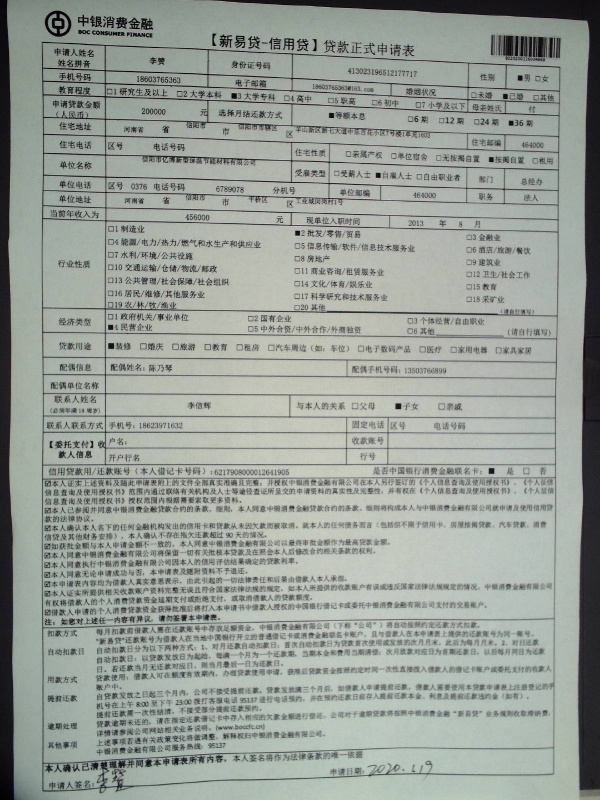text: (97, 766, 112, 795), (113, 766, 128, 795), (225, 31, 240, 58), (241, 31, 256, 58), (257, 31, 272, 58), (273, 31, 288, 58), (289, 31, 304, 58), (305, 31, 320, 58), (321, 31, 336, 58), (337, 31, 352, 58), (353, 31, 368, 58), (369, 31, 384, 58), (385, 31, 400, 58), (401, 31, 416, 58), (113, 85, 128, 112), (129, 85, 144, 112), (145, 85, 160, 112), (161, 85, 176, 112), (177, 85, 192, 112), (193, 85, 208, 112), (209, 85, 224, 112), (225, 85, 240, 112), (241, 85, 256, 112), (257, 85, 272, 112), (273, 85, 288, 112), (289, 85, 304, 112), (305, 85, 320, 112), (321, 85, 336, 112), (337, 85, 352, 112), (353, 85, 368, 112), (369, 85, 384, 112), (385, 85, 400, 112), (401, 85, 416, 112), (417, 85, 432, 112), (433, 85, 448, 112), (449, 85, 464, 112), (49, 749, 64, 775), (65, 749, 80, 775), (81, 749, 96, 775), (97, 749, 112, 775), (113, 749, 128, 775), (129, 749, 144, 775), (145, 749, 160, 775), (161, 749, 176, 775), (177, 749, 192, 775), (193, 749, 208, 775), (209, 749, 224, 775), (225, 749, 240, 775), (241, 749, 256, 775), (257, 749, 272, 775), (273, 749, 288, 775), (289, 749, 304, 775), (305, 749, 320, 775), (321, 749, 336, 775), (337, 749, 352, 775), (353, 749, 368, 775), (211, 31, 224, 58), (97, 707, 112, 730), (113, 707, 128, 730), (129, 707, 144, 730), (145, 707, 160, 730), (161, 707, 176, 730), (177, 707, 192, 730), (193, 707, 208, 730), (209, 707, 224, 730), (225, 707, 240, 730), (241, 707, 256, 730), (257, 707, 272, 730), (273, 707, 288, 730), (289, 707, 304, 730), (305, 707, 320, 730), (321, 707, 336, 730), (337, 707, 352, 730), (353, 707, 368, 730), (369, 707, 384, 730), (385, 707, 400, 730), (401, 707, 416, 730), (417, 707, 432, 730), (433, 707, 448, 730), (449, 707, 464, 730), (465, 707, 480, 730), (481, 707, 496, 730), (497, 707, 512, 730), (513, 707, 528, 730), (529, 707, 544, 730), (97, 681, 112, 703), (113, 681, 128, 703), (129, 681, 144, 703), (145, 681, 160, 703), (161, 681, 176, 703), (177, 681, 192, 703), (193, 681, 208, 703), (209, 681, 224, 703), (225, 681, 240, 703), (241, 681, 256, 703), (257, 681, 272, 703), (273, 681, 288, 703), (289, 681, 304, 703), (305, 681, 320, 703), (321, 681, 336, 703), (337, 681, 352, 703), (353, 681, 368, 703), (369, 681, 384, 703), (385, 681, 400, 703), (401, 681, 416, 703), (417, 681, 432, 703), (433, 681, 448, 703), (449, 681, 464, 703), (465, 681, 480, 703), (481, 681, 496, 703), (497, 681, 512, 703), (513, 681, 528, 703), (529, 681, 544, 703), (97, 690, 112, 711), (113, 690, 128, 711), (129, 690, 144, 711), (145, 690, 160, 711), (161, 690, 176, 711), (177, 690, 192, 711), (193, 690, 208, 711), (209, 690, 224, 711), (225, 690, 240, 711), (241, 690, 256, 711), (257, 690, 272, 711), (273, 690, 288, 711), (289, 690, 304, 711), (305, 690, 320, 711), (321, 690, 336, 711), (337, 690, 352, 711), (353, 690, 368, 711), (369, 690, 384, 711), (385, 690, 400, 711), (401, 690, 416, 711), (417, 690, 432, 711), (433, 690, 448, 711), (449, 690, 464, 711), (465, 690, 480, 711), (481, 690, 496, 711), (497, 690, 512, 711), (513, 690, 528, 711), (369, 759, 384, 780), (385, 759, 400, 780), (401, 759, 416, 780), (417, 759, 432, 780), (81, 12, 96, 32), (97, 12, 112, 32), (113, 12, 128, 32), (129, 12, 144, 32), (353, 147, 368, 167), (369, 147, 384, 167), (385, 147, 400, 167), (401, 147, 416, 167), (417, 147, 432, 167), (433, 147, 448, 167), (449, 147, 464, 167), (465, 147, 480, 167), (481, 147, 496, 167), (497, 147, 512, 167), (513, 147, 528, 167), (529, 147, 544, 167), (97, 645, 112, 665), (113, 645, 128, 665), (129, 645, 144, 665), (145, 645, 160, 665), (161, 645, 176, 665), (177, 645, 192, 665), (193, 645, 208, 665), (209, 645, 224, 665), (225, 645, 240, 665), (241, 645, 256, 665), (257, 645, 272, 665), (273, 645, 288, 665), (289, 645, 304, 665), (305, 645, 320, 665), (321, 645, 336, 665), (337, 645, 352, 665), (353, 645, 368, 665), (369, 645, 384, 665), (385, 645, 400, 665), (401, 645, 416, 665), (417, 645, 432, 665), (433, 645, 448, 665), (449, 645, 464, 665), (465, 645, 480, 665), (481, 645, 496, 665), (497, 645, 512, 665), (513, 645, 528, 665), (529, 645, 544, 665), (97, 729, 112, 749), (113, 729, 128, 749), (129, 729, 144, 749), (145, 729, 160, 749), (161, 729, 176, 749), (177, 729, 192, 749), (193, 729, 208, 749), (209, 729, 224, 749), (225, 729, 240, 749), (241, 729, 256, 749), (257, 729, 272, 749), (273, 729, 288, 749), (289, 729, 304, 749), (305, 729, 320, 749), (545, 681, 558, 703), (49, 581, 64, 600), (65, 581, 80, 600), (81, 581, 96, 600), (97, 581, 112, 600), (113, 581, 128, 600), (129, 581, 144, 600), (145, 581, 160, 600), (161, 581, 176, 600), (177, 581, 192, 600), (193, 581, 208, 600), (209, 581, 224, 600), (225, 581, 240, 600), (241, 581, 256, 600), (257, 581, 272, 600), (273, 581, 288, 600), (289, 581, 304, 600), (305, 581, 320, 600), (321, 581, 336, 600), (337, 581, 352, 600), (353, 581, 368, 600), (369, 581, 384, 600), (385, 581, 400, 600), (401, 581, 416, 600), (417, 581, 432, 600), (433, 581, 448, 600), (449, 581, 464, 600), (465, 581, 480, 600), (481, 581, 496, 600), (497, 581, 512, 600), (513, 581, 528, 600), (529, 581, 544, 600), (97, 664, 112, 683), (113, 664, 128, 683), (129, 664, 144, 683), (145, 664, 160, 683), (161, 664, 176, 683), (177, 664, 192, 683), (193, 664, 208, 683), (209, 664, 224, 683), (225, 664, 240, 683), (241, 664, 256, 683), (257, 664, 272, 683), (273, 664, 288, 683), (289, 664, 304, 683), (305, 664, 320, 683), (321, 664, 336, 683), (337, 664, 352, 683), (353, 664, 368, 683), (369, 664, 384, 683), (385, 664, 400, 683), (401, 664, 416, 683), (417, 664, 432, 683), (433, 664, 448, 683), (449, 664, 464, 683), (465, 664, 480, 683), (481, 664, 496, 683), (497, 664, 512, 683), (513, 664, 528, 683), (529, 664, 544, 683), (49, 600, 64, 618), (65, 600, 80, 618), (81, 600, 96, 618), (97, 600, 112, 618), (113, 600, 128, 618), (129, 600, 144, 618), (145, 600, 160, 618), (161, 600, 176, 618), (177, 600, 192, 618), (193, 600, 208, 618), (209, 600, 224, 618), (225, 600, 240, 618), (241, 600, 256, 618), (257, 600, 272, 618), (273, 600, 288, 618), (289, 600, 304, 618), (305, 600, 320, 618), (321, 600, 336, 618), (337, 600, 352, 618), (353, 600, 368, 618), (369, 600, 384, 618), (385, 600, 400, 618), (401, 600, 416, 618), (417, 600, 432, 618), (433, 600, 448, 618), (449, 600, 464, 618), (465, 600, 480, 618), (97, 638, 112, 656), (113, 638, 128, 656), (129, 638, 144, 656), (145, 638, 160, 656), (161, 638, 176, 656), (177, 638, 192, 656), (193, 638, 208, 656), (209, 638, 224, 656), (225, 638, 240, 656), (241, 638, 256, 656), (257, 638, 272, 656), (273, 638, 288, 656), (289, 638, 304, 656), (305, 638, 320, 656), (321, 638, 336, 656), (337, 638, 352, 656), (353, 638, 368, 656), (369, 638, 384, 656), (385, 638, 400, 656), (401, 638, 416, 656), (417, 638, 432, 656), (433, 638, 448, 656), (449, 638, 464, 656), (465, 638, 480, 656), (481, 638, 496, 656), (497, 638, 512, 656), (513, 638, 528, 656), (545, 147, 558, 167), (417, 112, 432, 129), (433, 112, 448, 129), (449, 112, 464, 129), (465, 112, 480, 129), (481, 112, 496, 129), (497, 112, 512, 129), (513, 112, 528, 129), (305, 239, 320, 256), (321, 239, 336, 256), (337, 239, 352, 256), (353, 239, 368, 256), (369, 239, 384, 256), (385, 239, 400, 256), (401, 239, 416, 256), (49, 612, 64, 629), (65, 612, 80, 629), (81, 612, 96, 629), (97, 612, 112, 629), (113, 612, 128, 629), (129, 612, 144, 629), (145, 612, 160, 629), (161, 612, 176, 629), (177, 612, 192, 629), (193, 612, 208, 629), (209, 612, 224, 629), (97, 620, 112, 637), (113, 620, 128, 637), (129, 620, 144, 637), (145, 620, 160, 637), (161, 620, 176, 637), (177, 620, 192, 637), (193, 620, 208, 637), (209, 620, 224, 637), (225, 620, 240, 637), (241, 620, 256, 637), (257, 620, 272, 637), (273, 620, 288, 637), (289, 620, 304, 637), (305, 620, 320, 637), (321, 620, 336, 637), (337, 620, 352, 637), (353, 620, 368, 637), (369, 620, 384, 637), (385, 620, 400, 637), (401, 620, 416, 637), (417, 620, 432, 637), (433, 620, 448, 637), (449, 620, 464, 637), (465, 620, 480, 637), (97, 630, 112, 647), (113, 630, 128, 647), (129, 630, 144, 647), (145, 630, 160, 647), (161, 630, 176, 647), (177, 630, 192, 647), (193, 630, 208, 647), (209, 630, 224, 647), (225, 630, 240, 647), (241, 630, 256, 647), (257, 630, 272, 647), (273, 630, 288, 647), (289, 630, 304, 647), (305, 630, 320, 647), (321, 630, 336, 647), (337, 630, 352, 647), (353, 630, 368, 647), (369, 630, 384, 647), (385, 630, 400, 647), (401, 630, 416, 647), (417, 630, 432, 647), (433, 630, 448, 647), (449, 630, 464, 647), (465, 630, 480, 647), (481, 630, 496, 647), (497, 630, 512, 647), (513, 630, 528, 647), (97, 741, 112, 758), (113, 741, 128, 758), (129, 741, 144, 758), (145, 741, 160, 758), (161, 741, 176, 758), (177, 741, 192, 758), (193, 741, 208, 758), (209, 741, 224, 758), (481, 89, 496, 105), (497, 89, 512, 105), (513, 89, 528, 105), (529, 89, 544, 105), (305, 264, 320, 280), (321, 264, 336, 280), (337, 264, 352, 280), (353, 264, 368, 280), (369, 264, 384, 280), (113, 341, 128, 357), (129, 341, 144, 357), (145, 341, 160, 357), (161, 341, 176, 357), (177, 341, 192, 357), (193, 341, 208, 357), (209, 341, 224, 357), (225, 341, 240, 357), (241, 341, 256, 357), (257, 341, 272, 357), (273, 341, 288, 357), (289, 341, 304, 357), (305, 341, 320, 357), (321, 341, 336, 357), (337, 341, 352, 357), (353, 341, 368, 357), (369, 341, 384, 357), (385, 341, 400, 357), (401, 341, 416, 357), (417, 341, 432, 357), (433, 341, 448, 357), (449, 341, 464, 357), (465, 341, 480, 357), (481, 341, 496, 357), (497, 341, 512, 357), (513, 341, 528, 357), (49, 574, 64, 590), (65, 574, 80, 590), (81, 574, 96, 590), (97, 574, 112, 590), (113, 574, 128, 590), (129, 574, 144, 590), (145, 574, 160, 590), (161, 574, 176, 590), (177, 574, 192, 590), (193, 574, 208, 590), (209, 574, 224, 590), (225, 574, 240, 590), (241, 574, 256, 590), (257, 574, 272, 590), (273, 574, 288, 590), (289, 574, 304, 590), (305, 574, 320, 590), (321, 574, 336, 590), (97, 659, 112, 675), (113, 659, 128, 675), (129, 659, 144, 675), (145, 659, 160, 675), (161, 659, 176, 675), (177, 659, 192, 675), (193, 659, 208, 675), (209, 659, 224, 675), (225, 659, 240, 675), (241, 659, 256, 675), (257, 659, 272, 675), (97, 704, 112, 720), (113, 704, 128, 720), (129, 704, 144, 720), (145, 704, 160, 720), (161, 704, 176, 720), (177, 704, 192, 720), (193, 704, 208, 720), (209, 704, 224, 720), (225, 704, 240, 720), (241, 704, 256, 720), (97, 723, 112, 739), (113, 723, 128, 739), (129, 723, 144, 739), (145, 723, 160, 739), (161, 723, 176, 739), (177, 723, 192, 739), (193, 723, 208, 739), (209, 723, 224, 739), (225, 723, 240, 739), (241, 723, 256, 739), (257, 723, 272, 739), (529, 638, 542, 656), (241, 58, 256, 73), (257, 58, 272, 73), (353, 65, 368, 80), (369, 65, 384, 80), (385, 65, 400, 80), (401, 65, 416, 80), (305, 125, 320, 140), (321, 125, 336, 140), (337, 125, 352, 140), (353, 125, 368, 140), (369, 125, 384, 140), (385, 125, 400, 140), (401, 125, 416, 140), (417, 125, 432, 140), (145, 154, 160, 169), (161, 154, 176, 169), (177, 154, 192, 169), (193, 154, 208, 169), (209, 154, 224, 169), (225, 154, 240, 169), (241, 154, 256, 169), (337, 169, 352, 184), (353, 169, 368, 184), (369, 169, 384, 184), (385, 169, 400, 184), (401, 169, 416, 184), (417, 169, 432, 184), (433, 169, 448, 184), (449, 169, 464, 184), (113, 249, 128, 264), (129, 249, 144, 264), (145, 249, 160, 264), (161, 249, 176, 264), (177, 249, 192, 264), (49, 537, 64, 552), (65, 537, 80, 552), (81, 537, 96, 552), (97, 537, 112, 552), (113, 537, 128, 552), (129, 537, 144, 552), (145, 537, 160, 552), (161, 537, 176, 552), (177, 537, 192, 552), (193, 537, 208, 552), (209, 537, 224, 552), (225, 537, 240, 552), (241, 537, 256, 552), (257, 537, 272, 552), (273, 537, 288, 552), (289, 537, 304, 552), (305, 537, 320, 552), (321, 537, 336, 552), (337, 537, 352, 552), (353, 537, 368, 552), (369, 537, 384, 552), (49, 547, 64, 562), (65, 547, 80, 562), (81, 547, 96, 562), (97, 547, 112, 562), (113, 547, 128, 562), (129, 547, 144, 562), (145, 547, 160, 562), (161, 547, 176, 562), (177, 547, 192, 562), (193, 547, 208, 562), (209, 547, 224, 562), (225, 547, 240, 562), (241, 547, 256, 562), (257, 547, 272, 562), (273, 547, 288, 562), (289, 547, 304, 562), (305, 547, 320, 562), (321, 547, 336, 562), (337, 547, 352, 562), (353, 547, 368, 562), (49, 556, 64, 571), (65, 556, 80, 571), (81, 556, 96, 571), (97, 556, 112, 571), (113, 556, 128, 571), (129, 556, 144, 571), (145, 556, 160, 571), (161, 556, 176, 571), (177, 556, 192, 571), (193, 556, 208, 571), (209, 556, 224, 571), (225, 556, 240, 571), (241, 556, 256, 571), (257, 556, 272, 571), (273, 556, 288, 571), (49, 566, 64, 581), (65, 566, 80, 581), (81, 566, 96, 581), (97, 566, 112, 581), (113, 566, 128, 581), (129, 566, 144, 581), (145, 566, 160, 581), (161, 566, 176, 581), (177, 566, 192, 581), (193, 566, 208, 581), (209, 566, 224, 581), (225, 566, 240, 581), (49, 593, 64, 608), (65, 593, 80, 608), (81, 593, 96, 608), (97, 593, 112, 608), (113, 593, 128, 608), (129, 593, 144, 608), (145, 593, 160, 608), (161, 593, 176, 608), (177, 593, 192, 608), (193, 593, 208, 608), (209, 593, 224, 608), (225, 593, 240, 608), (241, 593, 256, 608), (257, 593, 272, 608), (273, 593, 288, 608), (289, 593, 304, 608), (49, 778, 64, 793), (65, 778, 80, 793), (81, 778, 96, 793), (337, 765, 352, 780), (81, 46, 97, 60), (81, 178, 97, 192), (337, 574, 351, 590), (273, 659, 287, 675), (145, 12, 156, 32), (65, 46, 80, 60), (321, 81, 336, 95), (337, 81, 352, 95), (353, 81, 368, 95), (225, 107, 240, 121), (241, 107, 256, 121), (257, 107, 272, 121), (65, 120, 80, 134), (161, 141, 176, 155), (65, 178, 80, 192), (113, 180, 128, 194), (129, 180, 144, 194), (145, 180, 160, 194), (161, 180, 176, 194), (305, 214, 320, 228), (321, 214, 336, 228), (337, 214, 352, 228), (113, 261, 128, 275), (129, 261, 144, 275), (145, 261, 160, 275), (161, 261, 176, 275), (177, 261, 192, 275), (193, 261, 208, 275), (113, 287, 128, 301), (129, 287, 144, 301), (145, 287, 160, 301), (161, 287, 176, 301), (177, 287, 192, 301), (193, 287, 208, 301), (113, 298, 128, 312), (129, 298, 144, 312), (145, 298, 160, 312), (161, 298, 176, 312), (305, 227, 320, 241), (321, 227, 336, 241), (337, 227, 352, 241), (305, 290, 320, 304), (321, 290, 336, 304), (337, 290, 352, 304), (353, 290, 368, 304), (369, 290, 384, 304), (465, 268, 480, 282), (481, 268, 496, 282), (497, 268, 512, 282), (513, 268, 528, 282), (65, 257, 80, 271), (305, 400, 320, 414), (321, 400, 336, 414), (337, 400, 352, 414), (353, 400, 368, 414), (369, 400, 384, 414), (385, 400, 400, 414), (401, 400, 416, 414), (417, 400, 432, 414), (433, 400, 448, 414), (449, 400, 464, 414), (385, 464, 400, 478), (401, 464, 416, 478), (417, 464, 432, 478), (433, 464, 448, 478), (449, 464, 464, 478), (465, 464, 480, 478), (481, 464, 496, 478), (497, 464, 512, 478), (513, 464, 528, 478), (529, 464, 544, 478), (49, 519, 64, 533), (65, 519, 80, 533), (81, 519, 96, 533), (97, 519, 112, 533), (113, 519, 128, 533), (129, 519, 144, 533), (145, 519, 160, 533), (161, 519, 176, 533), (177, 519, 192, 533), (193, 519, 208, 533), (209, 519, 224, 533), (225, 519, 240, 533), (241, 519, 256, 533), (257, 519, 272, 533), (273, 519, 288, 533), (289, 519, 304, 533), (305, 519, 320, 533), (321, 519, 336, 533), (337, 519, 352, 533), (353, 519, 368, 533), (369, 519, 384, 533), (385, 519, 400, 533), (401, 519, 416, 533), (417, 519, 432, 533), (433, 519, 448, 533), (449, 519, 464, 533), (465, 519, 480, 533), (481, 519, 496, 533), (497, 519, 512, 533), (513, 519, 528, 533), (529, 519, 544, 533), (289, 556, 303, 571), (353, 765, 367, 780), (545, 581, 556, 600), (545, 89, 558, 105), (291, 264, 304, 280), (292, 239, 304, 256), (81, 120, 95, 134), (177, 180, 191, 194), (290, 290, 304, 304), (81, 257, 95, 271), (81, 28, 96, 41), (97, 28, 112, 41), (113, 28, 128, 41), (129, 28, 144, 41), (529, 72, 544, 85), (65, 70, 80, 83), (241, 76, 256, 89), (65, 99, 80, 112), (81, 99, 96, 112), (65, 109, 80, 122), (65, 139, 80, 152), (81, 139, 96, 152), (305, 147, 320, 160), (65, 159, 80, 172), (49, 208, 64, 221), (65, 208, 80, 221), (81, 208, 96, 221), (273, 214, 288, 227), (417, 218, 432, 231), (433, 218, 448, 231), (449, 218, 464, 231), (465, 218, 480, 231), (113, 237, 128, 250), (129, 237, 144, 250), (145, 237, 160, 250), (161, 237, 176, 250), (177, 237, 192, 250), (193, 237, 208, 250), (209, 237, 224, 250), (225, 237, 240, 250), (241, 237, 256, 250), (113, 275, 128, 288), (129, 275, 144, 288), (145, 275, 160, 288), (161, 275, 176, 288), (177, 275, 192, 288), (193, 275, 208, 288), (209, 275, 224, 288), (305, 278, 320, 291), (321, 278, 336, 291), (337, 278, 352, 291), (353, 278, 368, 291), (465, 231, 480, 244), (481, 231, 496, 244), (465, 244, 480, 257), (481, 244, 496, 257), (497, 244, 512, 257), (513, 244, 528, 257), (465, 256, 480, 269), (481, 256, 496, 269), (465, 293, 480, 306), (481, 293, 496, 306), (513, 306, 528, 319), (65, 315, 80, 328), (81, 315, 96, 328), (417, 325, 432, 338), (513, 326, 528, 339), (529, 326, 544, 339), (113, 362, 128, 375), (129, 362, 144, 375), (145, 362, 160, 375), (161, 362, 176, 375), (353, 364, 368, 377), (369, 364, 384, 377), (385, 364, 400, 377), (401, 364, 416, 377), (417, 364, 432, 377), (433, 364, 448, 377), (49, 466, 64, 479), (65, 466, 80, 479), (81, 466, 96, 479), (97, 466, 112, 479), (113, 466, 128, 479), (129, 466, 144, 479), (145, 466, 160, 479), (161, 466, 176, 479), (177, 466, 192, 479), (193, 466, 208, 479), (209, 466, 224, 479), (225, 466, 240, 479), (241, 466, 256, 479), (257, 466, 272, 479), (273, 466, 288, 479), (49, 503, 64, 516), (65, 503, 80, 516), (81, 503, 96, 516), (97, 503, 112, 516), (113, 503, 128, 516), (129, 503, 144, 516), (145, 503, 160, 516), (161, 503, 176, 516), (177, 503, 192, 516), (193, 503, 208, 516), (209, 503, 224, 516), (225, 503, 240, 516), (241, 503, 256, 516), (257, 503, 272, 516), (273, 503, 288, 516), (289, 503, 304, 516), (305, 503, 320, 516), (321, 503, 336, 516), (337, 503, 352, 516), (353, 503, 368, 516), (369, 503, 384, 516), (385, 503, 400, 516), (401, 503, 416, 516), (417, 503, 432, 516), (433, 503, 448, 516), (449, 503, 464, 516), (465, 503, 480, 516), (481, 503, 496, 516), (497, 503, 512, 516), (513, 503, 528, 516), (529, 503, 544, 516), (49, 531, 64, 544), (65, 531, 80, 544), (81, 531, 96, 544), (97, 531, 112, 544), (113, 531, 128, 544), (129, 531, 144, 544), (145, 531, 160, 544), (161, 531, 176, 544), (177, 531, 192, 544), (193, 531, 208, 544), (209, 531, 224, 544), (225, 531, 240, 544), (241, 531, 256, 544), (369, 547, 382, 562), (49, 646, 64, 659), (65, 646, 80, 659), (49, 739, 64, 752), (65, 739, 80, 752), (193, 119, 209, 131), (81, 362, 97, 374), (545, 707, 553, 730), (273, 107, 286, 121), (81, 159, 95, 172), (209, 261, 222, 275), (353, 227, 366, 241), (371, 464, 384, 478), (257, 531, 271, 544), (65, 57, 80, 69), (481, 71, 496, 83), (145, 74, 160, 86), (161, 74, 176, 86), (417, 87, 432, 99), (65, 84, 80, 96), (481, 102, 496, 114), (337, 110, 352, 122), (353, 110, 368, 122), (129, 125, 144, 137), (529, 140, 544, 152), (305, 167, 320, 179), (529, 175, 544, 187), (225, 183, 240, 195), (353, 187, 368, 199), (65, 194, 80, 206), (257, 194, 272, 206), (193, 212, 208, 224), (113, 223, 128, 235), (129, 223, 144, 235), (305, 252, 320, 264), (321, 252, 336, 264), (465, 281, 480, 293), (481, 281, 496, 293), (113, 312, 128, 324), (129, 312, 144, 324), (145, 312, 160, 324), (161, 312, 176, 324), (177, 312, 192, 324), (113, 322, 128, 334), (129, 322, 144, 334), (257, 313, 272, 325), (273, 313, 288, 325), (257, 325, 272, 337), (273, 325, 288, 337), (289, 325, 304, 337), (305, 325, 320, 337), (321, 325, 336, 337), (337, 325, 352, 337), (65, 341, 80, 353), (65, 362, 80, 374), (65, 380, 80, 392), (81, 380, 96, 392), (65, 406, 80, 418), (81, 406, 96, 418), (193, 400, 208, 412), (353, 420, 368, 432), (369, 420, 384, 432), (385, 420, 400, 432), (113, 436, 128, 448), (65, 449, 80, 461), (81, 449, 96, 461), (113, 452, 128, 464), (353, 435, 368, 447), (369, 435, 384, 447), (49, 486, 64, 498), (65, 486, 80, 498), (81, 486, 96, 498), (97, 486, 112, 498), (113, 486, 128, 498), (129, 486, 144, 498), (145, 486, 160, 498), (161, 486, 176, 498), (177, 486, 192, 498), (193, 486, 208, 498), (209, 486, 224, 498), (225, 486, 240, 498), (241, 486, 256, 498), (257, 486, 272, 498), (273, 486, 288, 498), (289, 486, 304, 498), (305, 486, 320, 498), (321, 486, 336, 498), (337, 486, 352, 498), (353, 486, 368, 498), (369, 486, 384, 498), (385, 486, 400, 498), (401, 486, 416, 498), (417, 486, 432, 498), (433, 486, 448, 498), (449, 486, 464, 498), (465, 486, 480, 498), (481, 486, 496, 498), (497, 486, 512, 498), (513, 486, 528, 498), (529, 486, 544, 498), (305, 593, 317, 608), (481, 600, 491, 618), (49, 628, 64, 640), (65, 628, 80, 640), (49, 693, 64, 705), (65, 693, 80, 705), (49, 720, 64, 732), (65, 720, 80, 732), (481, 175, 497, 186), (65, 675, 81, 686), (545, 664, 554, 683), (406, 112, 416, 129), (529, 630, 539, 647), (81, 70, 94, 83), (291, 278, 304, 291), (545, 503, 558, 516), (338, 187, 352, 199), (353, 214, 365, 228), (292, 227, 304, 241), (50, 380, 64, 392), (50, 406, 64, 418), (145, 106, 160, 117), (481, 137, 496, 148), (417, 190, 432, 201), (129, 195, 144, 206), (305, 302, 320, 313), (417, 315, 432, 326), (433, 315, 448, 326), (449, 315, 464, 326), (465, 315, 480, 326), (65, 394, 80, 405), (81, 394, 96, 405), (49, 420, 64, 431), (65, 420, 80, 431), (81, 420, 96, 431), (97, 420, 112, 431), (113, 420, 128, 431), (129, 420, 144, 431), (145, 420, 160, 431), (161, 420, 176, 431), (433, 421, 448, 432), (449, 421, 464, 432), (49, 439, 64, 450), (65, 439, 80, 450), (81, 439, 96, 450), (49, 478, 64, 489), (65, 478, 80, 489), (81, 478, 96, 489), (97, 478, 112, 489), (113, 478, 128, 489), (129, 478, 144, 489), (145, 478, 160, 489), (161, 478, 176, 489), (177, 478, 192, 489), (193, 478, 208, 489), (209, 478, 224, 489), (225, 478, 240, 489), (241, 478, 256, 489), (257, 478, 272, 489), (273, 478, 288, 489), (289, 478, 304, 489), (305, 478, 320, 489), (321, 478, 336, 489), (337, 478, 352, 489), (353, 478, 368, 489), (369, 478, 384, 489), (385, 478, 400, 489), (401, 478, 416, 489), (417, 478, 432, 489), (433, 478, 448, 489), (449, 478, 464, 489), (465, 478, 480, 489), (481, 478, 496, 489), (497, 478, 512, 489), (513, 478, 528, 489), (529, 478, 544, 489), (49, 496, 64, 507), (65, 496, 80, 507), (81, 496, 96, 507), (97, 496, 112, 507), (113, 496, 128, 507), (129, 496, 144, 507), (145, 496, 160, 507), (161, 496, 176, 507), (177, 496, 192, 507), (193, 496, 208, 507), (209, 496, 224, 507), (225, 496, 240, 507), (49, 675, 64, 686), (97, 682, 112, 693), (470, 89, 480, 105), (193, 192, 209, 202), (257, 704, 267, 720), (321, 729, 329, 749), (145, 28, 157, 41), (81, 57, 94, 69), (516, 72, 528, 85), (257, 76, 269, 89), (81, 84, 94, 96), (52, 99, 64, 112), (81, 194, 94, 206), (497, 293, 509, 306), (500, 306, 512, 319), (353, 325, 366, 337), (81, 341, 94, 353), (129, 452, 142, 464), (545, 486, 558, 498), (53, 46, 64, 60), (113, 141, 127, 152), (177, 141, 188, 155), (481, 191, 495, 202), (162, 195, 176, 206), (290, 302, 304, 313), (241, 122, 256, 132), (257, 122, 272, 132), (273, 185, 288, 195), (305, 196, 320, 206), (321, 196, 336, 206), (49, 515, 64, 525), (65, 515, 80, 525), (81, 515, 96, 525), (385, 537, 395, 552), (241, 566, 251, 581), (148, 55, 160, 67), (404, 87, 416, 99), (161, 123, 173, 135), (145, 322, 157, 334), (529, 193, 542, 204), (529, 306, 540, 319), (405, 325, 416, 338), (545, 478, 558, 489), (345, 147, 352, 167), (529, 112, 537, 129), (231, 58, 240, 73), (107, 85, 112, 112), (293, 252, 304, 264), (321, 302, 333, 313), (369, 450, 380, 462), (113, 682, 125, 693), (81, 109, 91, 122), (481, 218, 491, 231), (43, 749, 48, 775), (311, 81, 320, 95), (369, 81, 378, 95), (53, 394, 64, 405), (177, 420, 188, 431), (246, 325, 256, 337), (295, 147, 304, 160), (407, 218, 416, 231), (529, 341, 536, 357), (296, 400, 304, 414), (529, 104, 540, 114), (97, 439, 107, 450), (199, 106, 208, 118), (327, 110, 336, 122), (295, 167, 304, 179), (215, 183, 224, 195), (247, 194, 256, 206), (247, 313, 256, 325), (401, 420, 410, 432), (359, 450, 368, 462), (513, 55, 528, 62), (529, 55, 544, 62), (297, 125, 304, 140), (41, 566, 48, 581), (529, 690, 534, 711), (329, 765, 336, 780), (433, 759, 438, 780), (545, 72, 553, 85), (56, 109, 64, 122), (257, 237, 265, 250), (225, 275, 233, 288), (369, 278, 377, 291), (497, 231, 505, 244), (497, 256, 505, 269), (545, 326, 553, 339), (289, 185, 299, 195), (337, 196, 347, 206), (225, 126, 234, 137), (225, 196, 234, 207), (407, 315, 416, 326), (481, 315, 490, 326), (153, 141, 160, 155), (105, 261, 112, 275), (105, 287, 112, 301), (105, 298, 112, 312), (177, 298, 184, 312), (57, 257, 64, 271), (56, 57, 64, 69), (136, 74, 144, 86), (177, 74, 185, 86), (472, 102, 480, 114), (497, 102, 505, 114), (520, 140, 528, 152), (321, 167, 329, 179), (520, 175, 528, 187), (184, 212, 192, 224), (289, 313, 297, 325), (321, 147, 328, 160), (57, 315, 64, 328), (106, 249, 112, 264), (43, 600, 48, 618), (161, 106, 169, 117), (472, 137, 480, 148), (161, 55, 168, 67), (218, 107, 224, 121), (58, 120, 64, 134), (185, 119, 192, 131), (58, 178, 64, 192), (241, 183, 248, 195), (385, 290, 391, 304), (57, 449, 64, 461), (545, 519, 551, 533), (465, 85, 468, 112), (289, 129, 297, 139), (296, 196, 304, 206), (107, 341, 112, 357), (43, 574, 48, 590), (58, 70, 64, 83), (97, 99, 103, 112), (106, 275, 112, 288), (529, 244, 535, 257), (433, 325, 439, 338), (42, 531, 48, 544), (81, 646, 87, 659), (497, 137, 504, 148), (433, 190, 440, 201), (44, 581, 48, 600), (347, 65, 352, 80), (417, 65, 422, 80), (43, 537, 48, 552), (43, 547, 48, 562), (43, 556, 48, 571), (433, 87, 439, 99), (122, 125, 128, 137), (58, 194, 64, 206), (289, 200, 297, 209), (58, 341, 64, 353), (97, 406, 103, 418), (186, 400, 192, 412), (209, 400, 215, 412), (106, 436, 112, 448), (273, 122, 280, 132), (185, 192, 192, 202), (529, 268, 534, 282), (545, 464, 550, 478), (44, 612, 48, 629), (481, 620, 485, 637), (225, 741, 229, 758), (522, 193, 528, 204), (241, 496, 247, 507), (235, 76, 240, 89), (59, 139, 64, 152), (59, 159, 64, 172), (97, 208, 102, 221), (107, 237, 112, 250), (507, 326, 512, 339), (43, 503, 48, 516), (77, 12, 80, 32), (59, 84, 64, 96), (209, 212, 214, 224), (145, 223, 150, 235), (193, 249, 197, 264), (497, 281, 502, 293), (107, 312, 112, 324), (107, 322, 112, 334), (59, 362, 64, 374), (97, 380, 102, 392), (42, 515, 48, 525), (44, 593, 48, 608), (545, 645, 548, 665), (129, 766, 131, 795), (108, 180, 112, 194), (44, 519, 48, 533), (107, 141, 112, 152), (123, 195, 128, 206), (97, 394, 102, 405), (465, 421, 470, 432), (417, 239, 420, 256), (93, 630, 96, 647), (505, 55, 512, 62), (369, 187, 373, 199), (108, 223, 112, 235), (385, 264, 388, 280), (129, 436, 133, 448), (44, 486, 48, 498), (141, 154, 144, 169), (257, 154, 260, 169), (333, 169, 336, 184), (412, 190, 416, 201), (44, 496, 48, 507), (289, 466, 292, 479), (94, 664, 96, 683), (145, 125, 148, 137), (109, 452, 112, 464), (141, 106, 144, 117), (221, 126, 224, 137), (477, 175, 480, 186), (477, 191, 480, 202), (221, 196, 224, 207), (45, 478, 48, 489), (285, 129, 288, 139), (433, 125, 435, 140), (95, 766, 96, 795), (209, 287, 211, 301), (465, 400, 467, 414), (417, 31, 418, 58), (285, 200, 288, 209), (78, 28, 80, 41), (110, 362, 112, 375), (449, 364, 451, 377), (369, 749, 370, 775), (369, 110, 371, 122), (545, 140, 547, 152), (545, 175, 547, 187), (193, 312, 195, 324), (46, 720, 48, 732), (95, 707, 96, 730), (145, 195, 147, 206), (46, 420, 48, 431), (95, 681, 96, 703), (545, 55, 548, 62), (238, 122, 240, 132), (95, 645, 96, 665), (95, 729, 96, 749), (95, 638, 96, 656), (95, 620, 96, 637), (95, 741, 96, 758), (95, 659, 96, 675), (95, 704, 96, 720), (95, 723, 96, 739), (273, 58, 274, 73), (47, 778, 48, 793), (351, 364, 352, 377), (47, 646, 48, 659), (47, 739, 48, 752), (81, 739, 82, 752), (479, 71, 480, 83), (497, 71, 498, 83), (209, 106, 210, 118), (337, 252, 338, 264), (351, 420, 352, 432), (351, 435, 352, 447), (385, 435, 386, 447), (47, 628, 48, 640), (81, 628, 82, 640), (47, 693, 48, 705), (81, 720, 82, 732), (47, 675, 48, 686), (95, 682, 96, 693), (527, 104, 528, 114), (97, 515, 98, 525)
